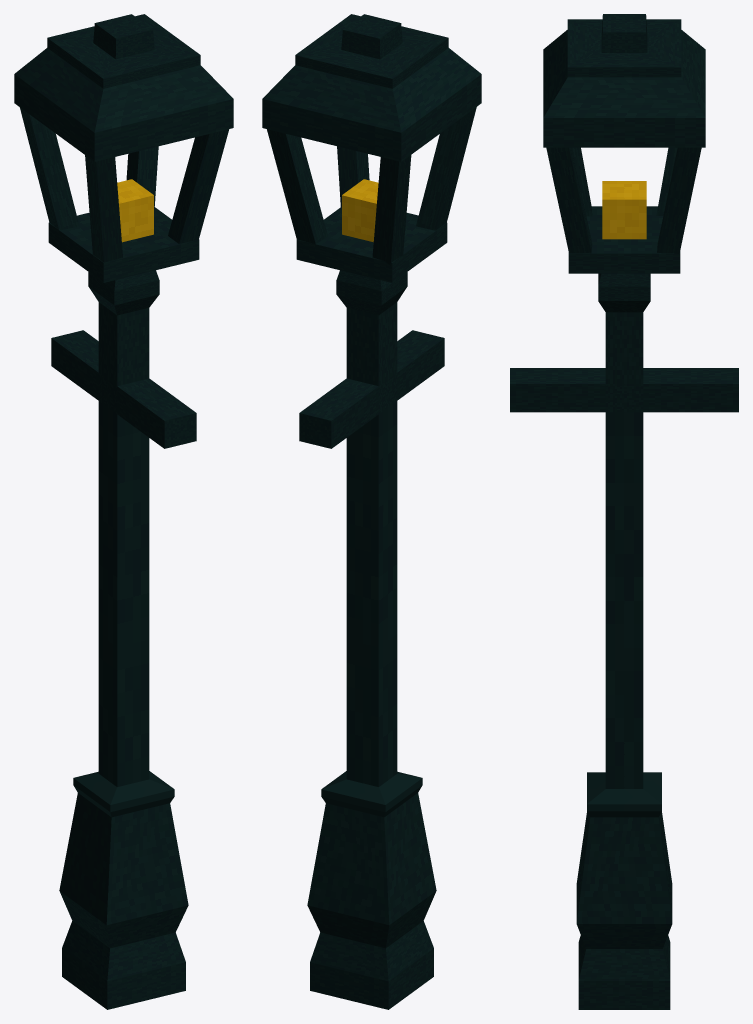
The model's file is lamppost.obj.
3 renders of one model, left to right at view 1: azimuth 30°, elevation 25°; view 2: azimuth 150°, elevation 25°; view 3: azimuth 270°, elevation 25°, orthographic.
Parts seen in each view (by area): view 1: Model_model; view 2: Model_model; view 3: Model_model.
Boxes of the visible parts, x1=… form: Model_model: x1=14, y1=14, x2=233, y2=1009; Model_model: x1=262, y1=14, x2=481, y2=1009; Model_model: x1=510, y1=14, x2=738, y2=1009.
Size of the model in its own units: 1.51 by 9.94 by 2.13.
